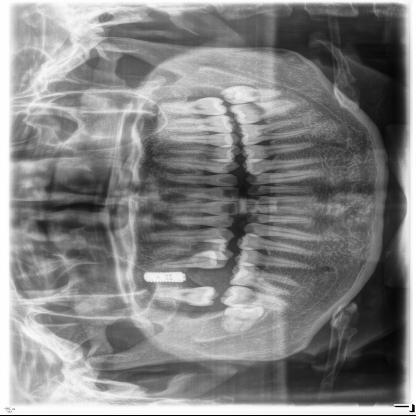ITI: (141, 272, 188, 286)
